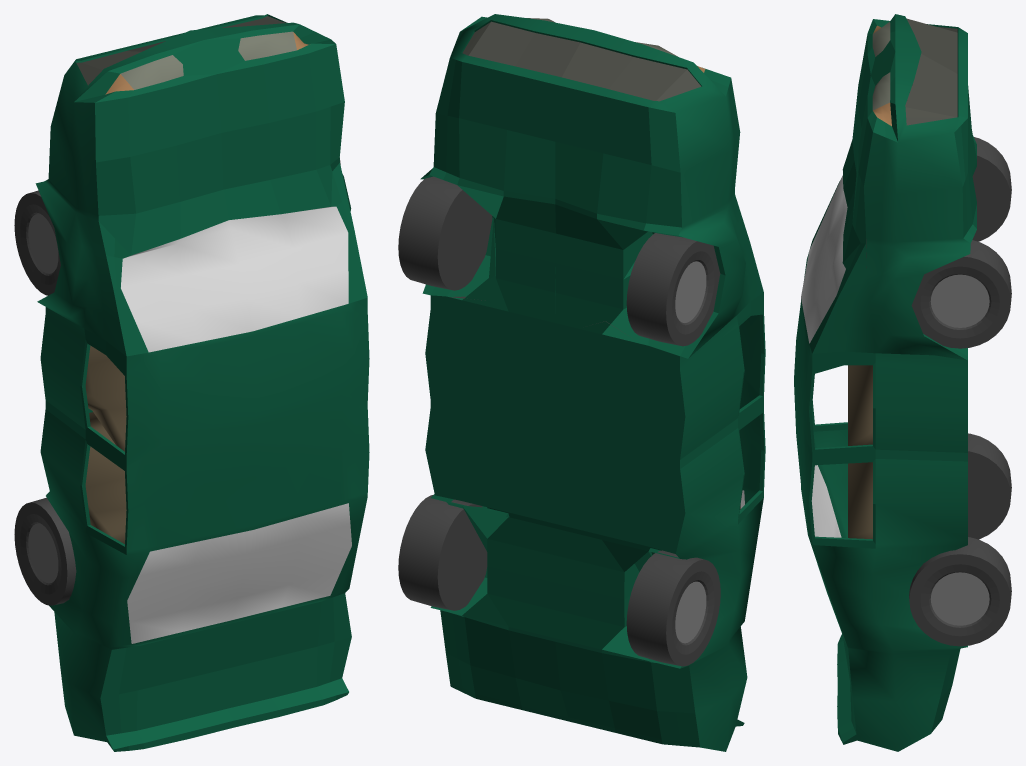
File: car.fbx
3 views of the same model, side by side, from view 1: azimuth 30°, elevation 25°; view 2: azimuth 150°, elevation 25°; view 3: azimuth 270°, elevation 25° (orthographic). The views are drawn at different scales.
Visible parts, largest first — view 1: Car; view 2: Car; view 3: Car.
Part boxes in pixels (x1,y1,x2,y2): Car: (14, 14, 369, 751); Car: (398, 14, 765, 751); Car: (794, 14, 1011, 751).
Bounding box in the file's own units: 3.01 × 6.88 × 2.12.
